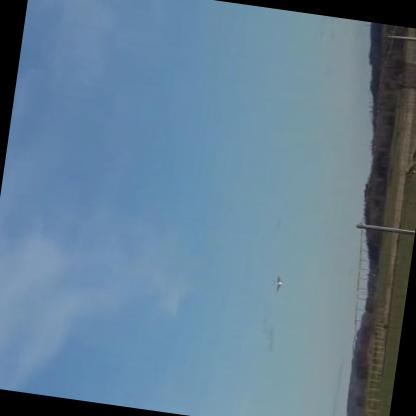plane: (267, 271, 290, 298)
